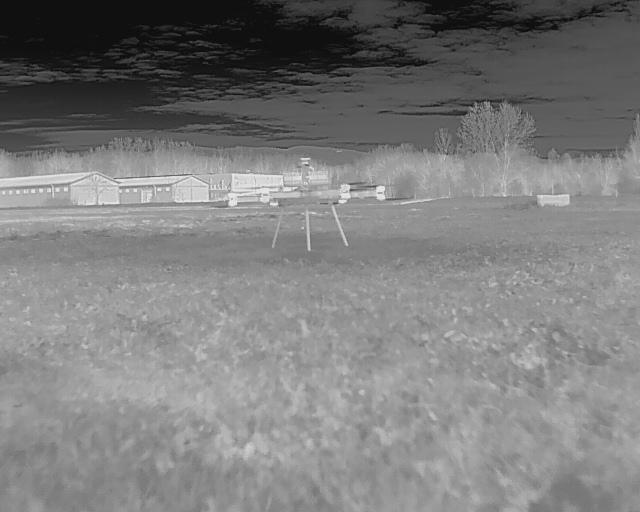drone: (222, 162, 393, 256)
